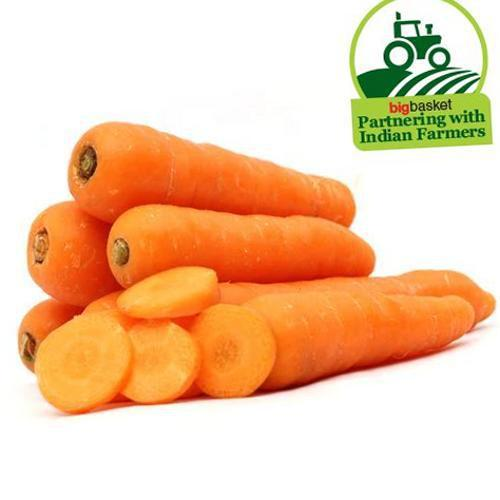carrot: (23, 123, 488, 423)
